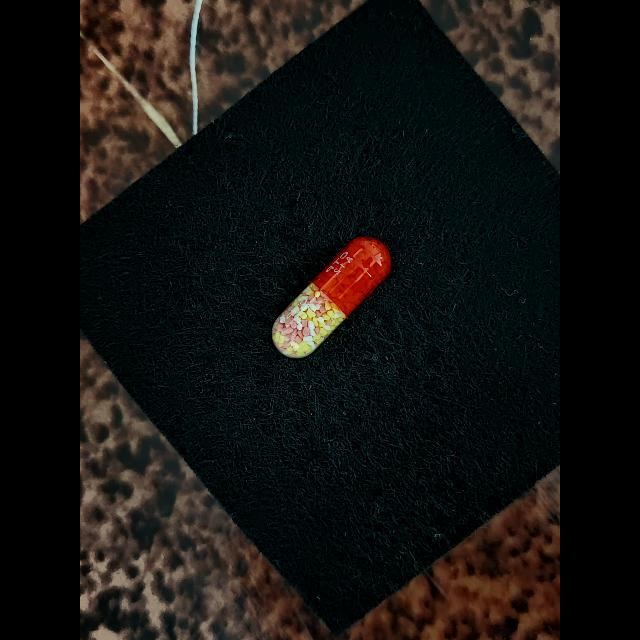Intact Capsule: (272, 236, 391, 358)
